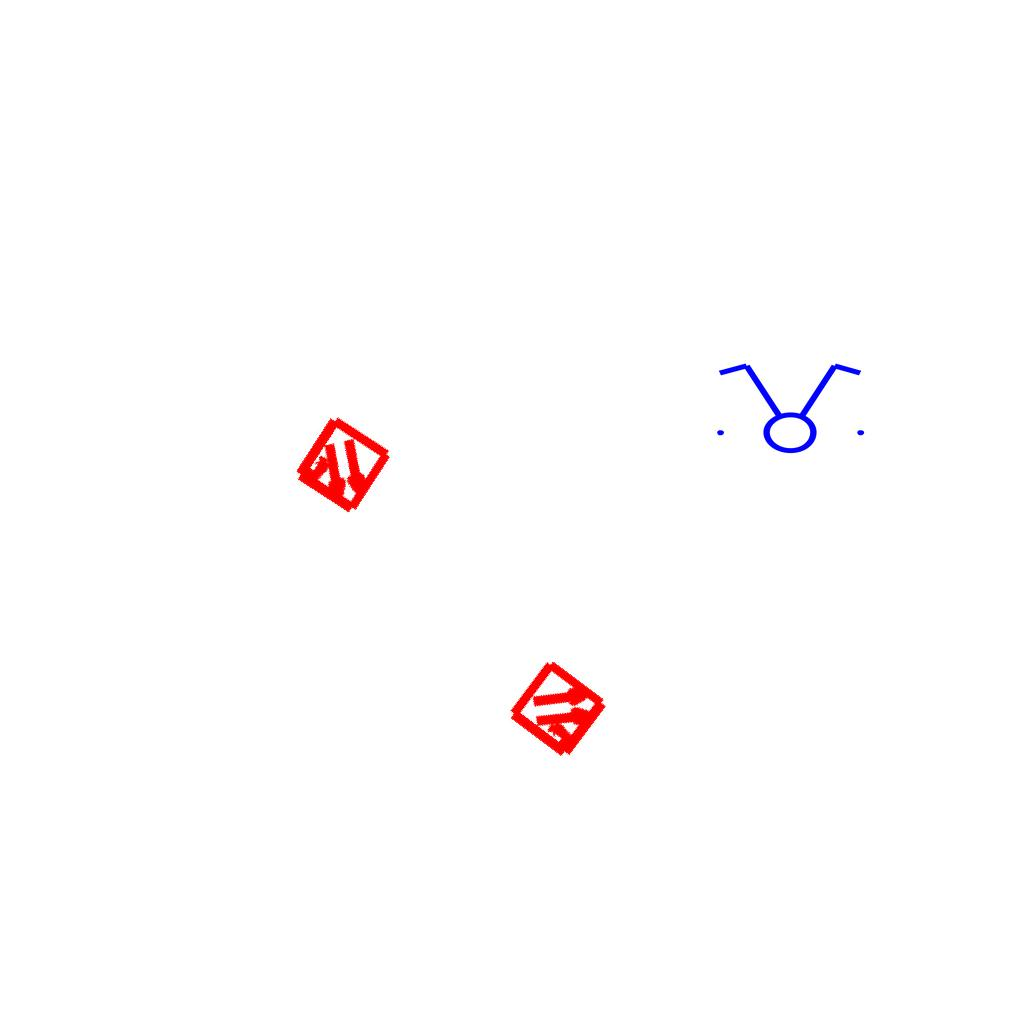OT_Multisensormelder_(Kombination_RMO_WMD): (480, 631, 639, 790), (263, 388, 420, 545)
Serienschalter: (705, 359, 873, 455)
